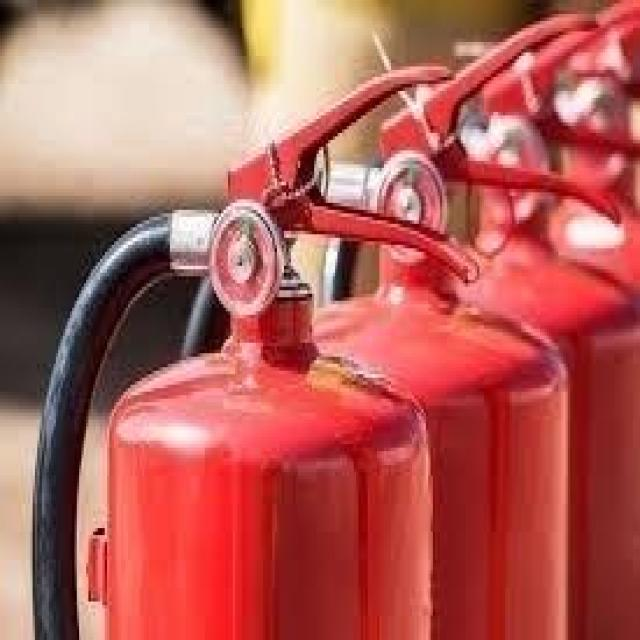fire_extinguisher: (161, 4, 624, 636), (20, 56, 483, 636), (302, 0, 636, 637)
